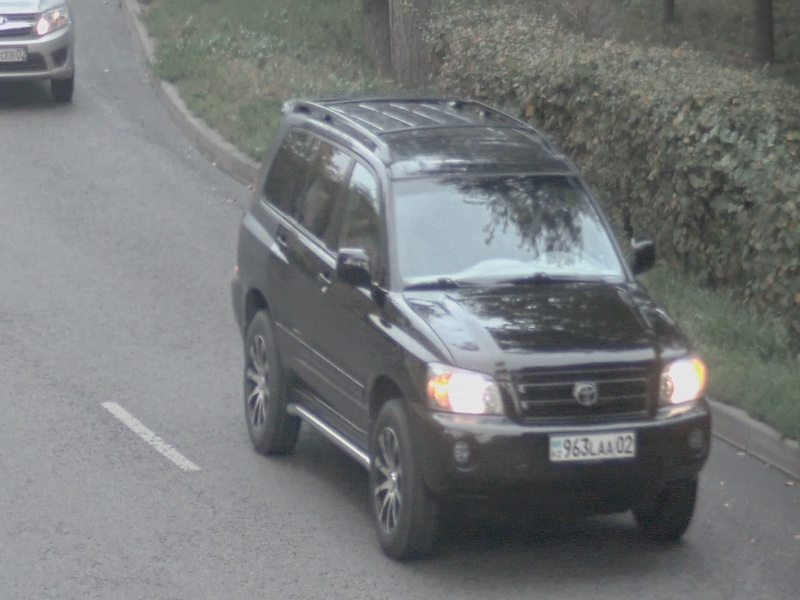plate: (548, 428, 637, 463)
